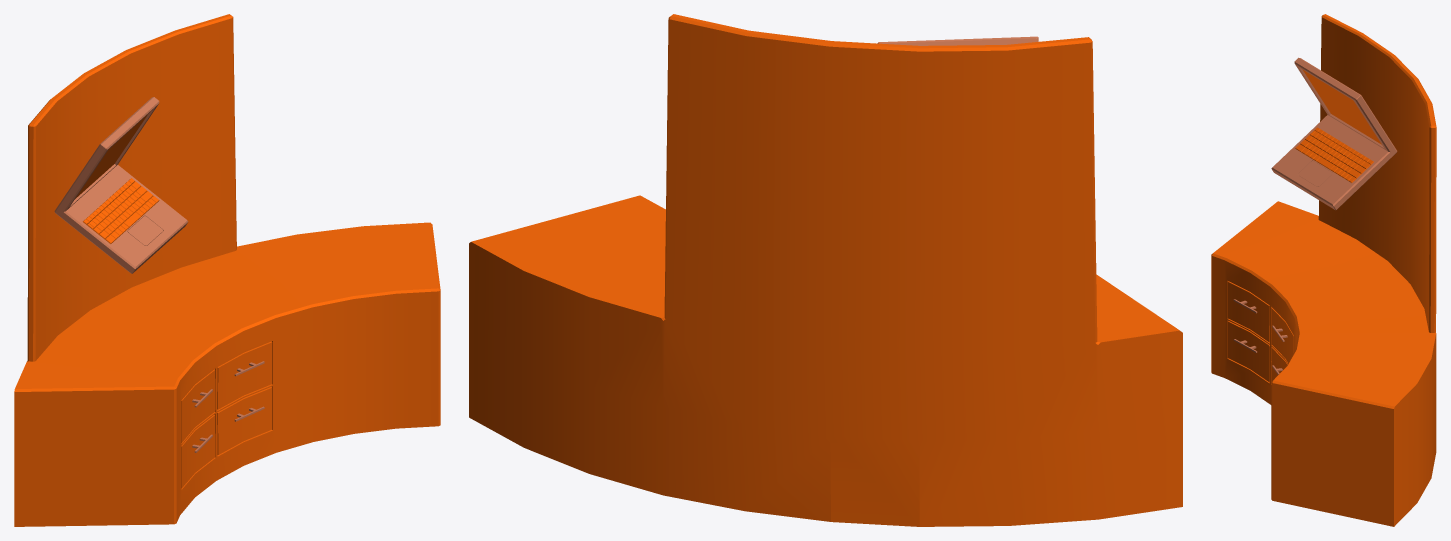
The model's file is scientistTable.gltf.
3 views of the same model, side by side, from view 1: azimuth 30°, elevation 25°; view 2: azimuth 150°, elevation 25°; view 3: azimuth 270°, elevation 25° (orthographic). The views are drawn at different scales.
Parts seen in each view (by area): view 1: scientist_TableTop.001, lenovo_Base, lenovo_Keys, scientistTableTop_Handles; view 2: scientist_TableTop.001, lenovo_Base; view 3: scientist_TableTop.001, lenovo_Base, lenovo_Keys, scientistTableTop_Handles.
Boxes of the visible parts, x1,y1,x2,y2 form: scientist_TableTop.001: (14, 14, 440, 526); lenovo_Base: (54, 97, 188, 273); lenovo_Keys: (83, 178, 159, 243); scientistTableTop_Handles: (192, 361, 264, 452); scientist_TableTop.001: (469, 14, 1182, 526); lenovo_Base: (877, 36, 1038, 45); scientist_TableTop.001: (1211, 14, 1436, 526); lenovo_Base: (1271, 57, 1397, 210); lenovo_Keys: (1295, 127, 1373, 182); scientistTableTop_Handles: (1233, 299, 1287, 374).
Size of the model in its own units: 3.71 by 2.72 by 1.71.
